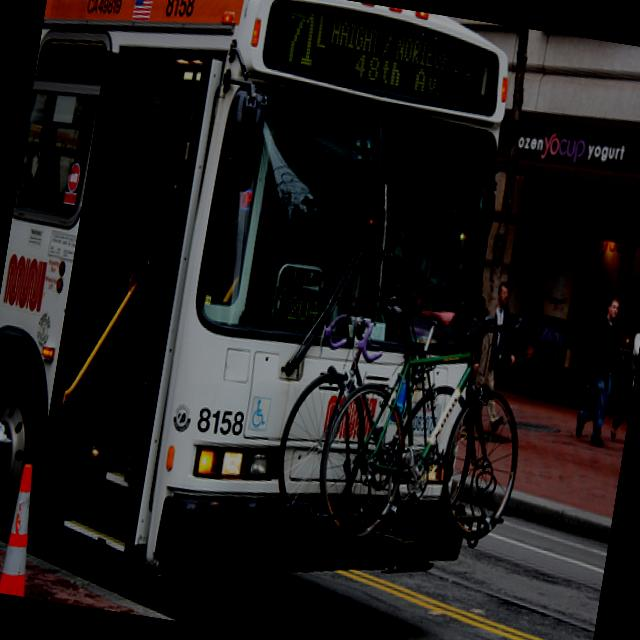Vehicle: (0, 0, 543, 619)
